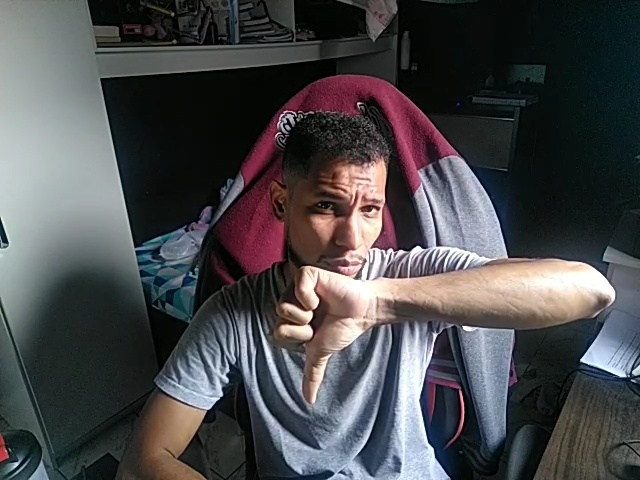não: (268, 254, 368, 418)
